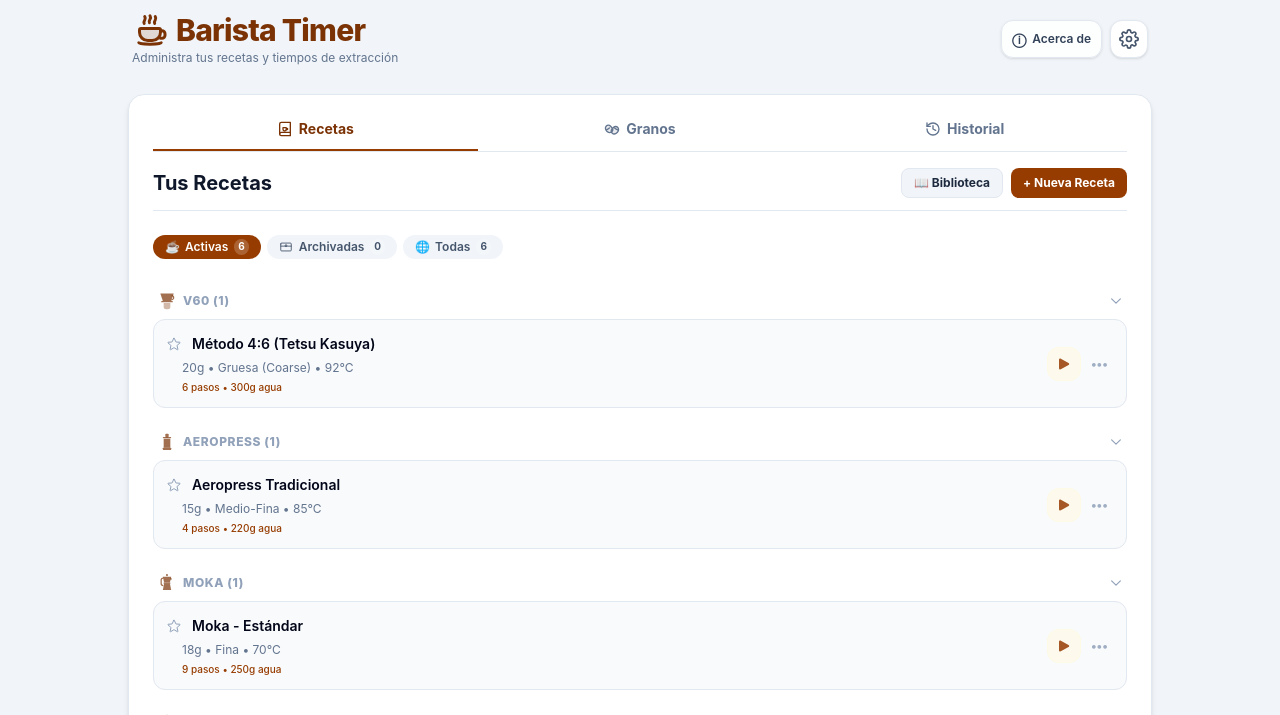
Test case: Recipe Library Integration Tests › handles network failure by using offline cached catalog
Click the button "📖 Biblioteca".
click(952, 183)  # box [901,168,1003,198]
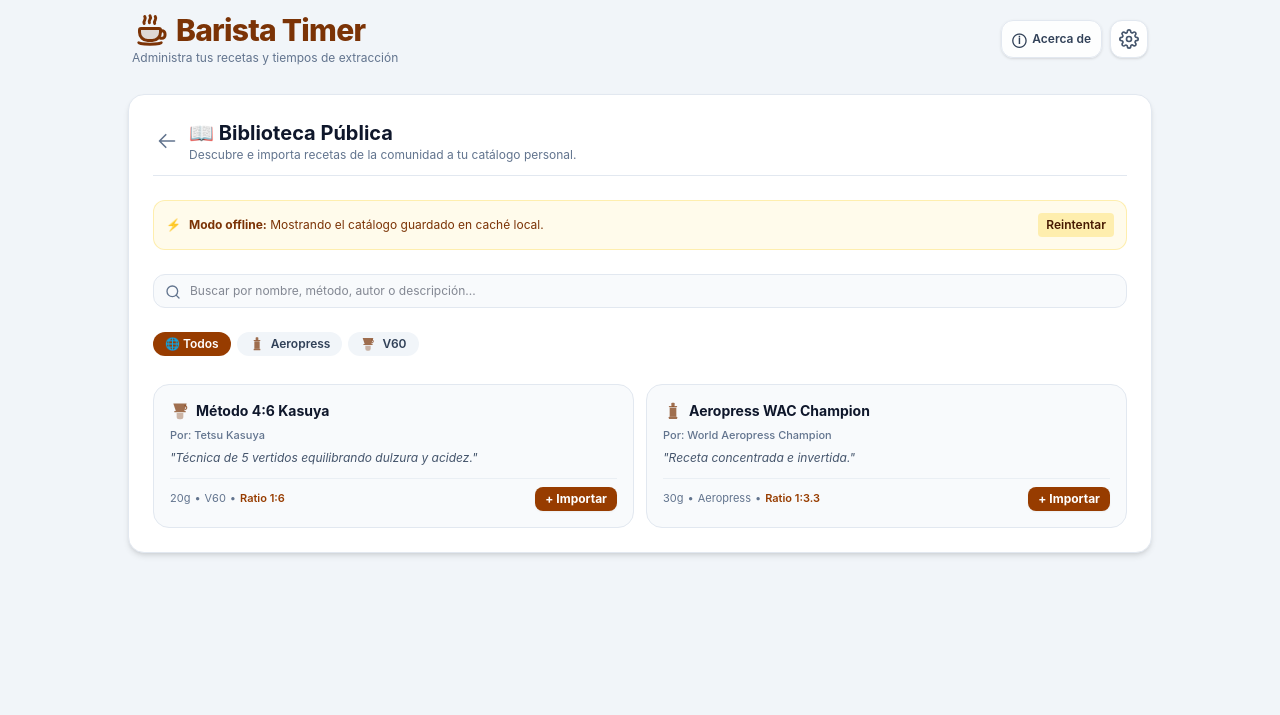
expect the text "Modo offline:" is shown: met, box [189,217,267,232]
expect the heading "Método 4:6 Kasuya" is shown: met, box [196,402,329,420]
